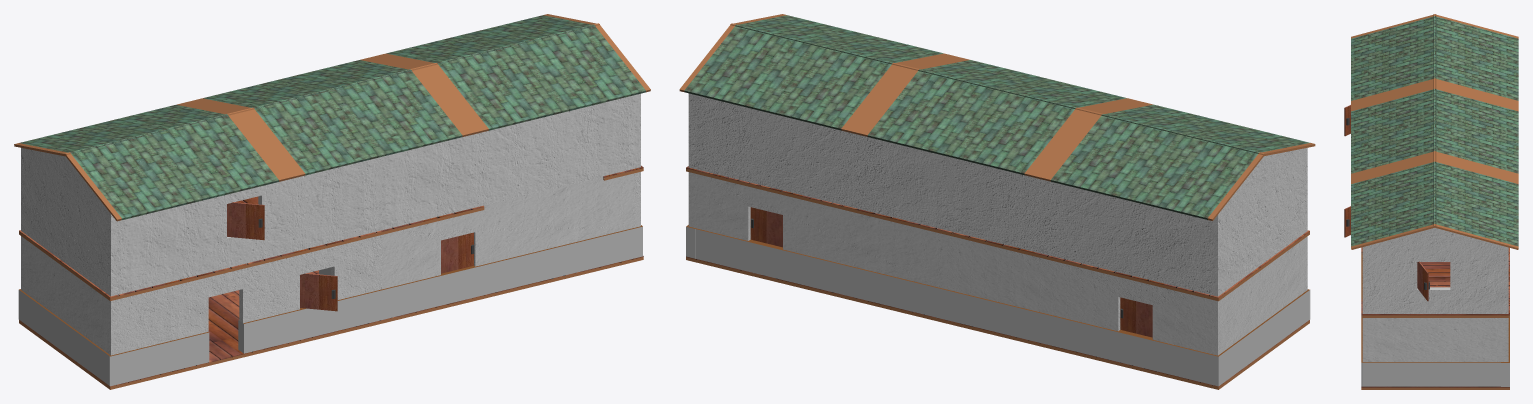
File: Mansao_Fazenda.fbx
3 views of the same model, side by side, from view 1: azimuth 30°, elevation 25°; view 2: azimuth 150°, elevation 25°; view 3: azimuth 270°, elevation 25° (orthographic). The views are drawn at different scales.
Visible parts, largest first — view 1: Teto_Calhas.001, Parede.005, Parede.011, Parede.002, Parede, Teto_Calhas.000, Parede.009, Parede.004, Piso, Piso.001, Janela, Janela.002 (+3 smaller); view 2: Teto_Calhas.000, Parede.003, Parede.000, Parede.012, Parede.010, Teto_Calhas.001, Parede.009, Parede.004, Piso.001, Piso, Janela.004, Janela.003 (+1 smaller); view 3: Teto_Calhas.000, Teto_Calhas.001, Parede.008, Parede.006, Piso.001, Piso, Janela.005, Parede.000, Janela.002, Janela, Parede.005.
Part boxes in pixels (bbox=[...]): Teto_Calhas.001: bbox=[65, 23, 650, 221]; Parede.005: bbox=[379, 173, 641, 319]; Parede.011: bbox=[382, 94, 640, 230]; Parede.002: bbox=[115, 236, 376, 383]; Parede: bbox=[117, 158, 375, 294]; Teto_Calhas.000: bbox=[14, 14, 599, 156]; Parede.009: bbox=[21, 148, 116, 296]; Parede.004: bbox=[18, 236, 119, 386]; Piso: bbox=[19, 256, 643, 389]; Piso.001: bbox=[19, 165, 643, 301]; Janela: bbox=[300, 273, 337, 311]; Janela.002: bbox=[227, 202, 264, 240]; Teto_Calhas.000: bbox=[679, 23, 1264, 220]; Parede.003: bbox=[951, 237, 1213, 384]; Parede.000: bbox=[686, 172, 947, 319]; Parede.012: bbox=[689, 93, 947, 230]; Parede.010: bbox=[953, 158, 1211, 294]; Teto_Calhas.001: bbox=[730, 14, 1315, 156]; Parede.009: bbox=[1211, 148, 1307, 296]; Parede.004: bbox=[1209, 236, 1310, 386]; Piso.001: bbox=[686, 166, 1309, 301]; Piso: bbox=[686, 256, 1309, 389]; Janela.004: bbox=[1120, 297, 1152, 337]; Janela.003: bbox=[750, 207, 782, 247]; Teto_Calhas.000: bbox=[1433, 14, 1518, 249]; Teto_Calhas.001: bbox=[1351, 14, 1436, 249]; Parede.008: bbox=[1362, 228, 1508, 313]; Parede.006: bbox=[1361, 318, 1509, 386]; Piso.001: bbox=[1361, 247, 1509, 317]; Piso: bbox=[1361, 386, 1509, 389]; Janela.005: bbox=[1417, 261, 1429, 301]; Parede.000: bbox=[1501, 318, 1509, 386]; Janela.002: bbox=[1344, 105, 1350, 136]; Janela: bbox=[1344, 206, 1350, 237]; Parede.005: bbox=[1361, 258, 1362, 360].
Size of the model in its own units: 2497 by 862 by 828.
